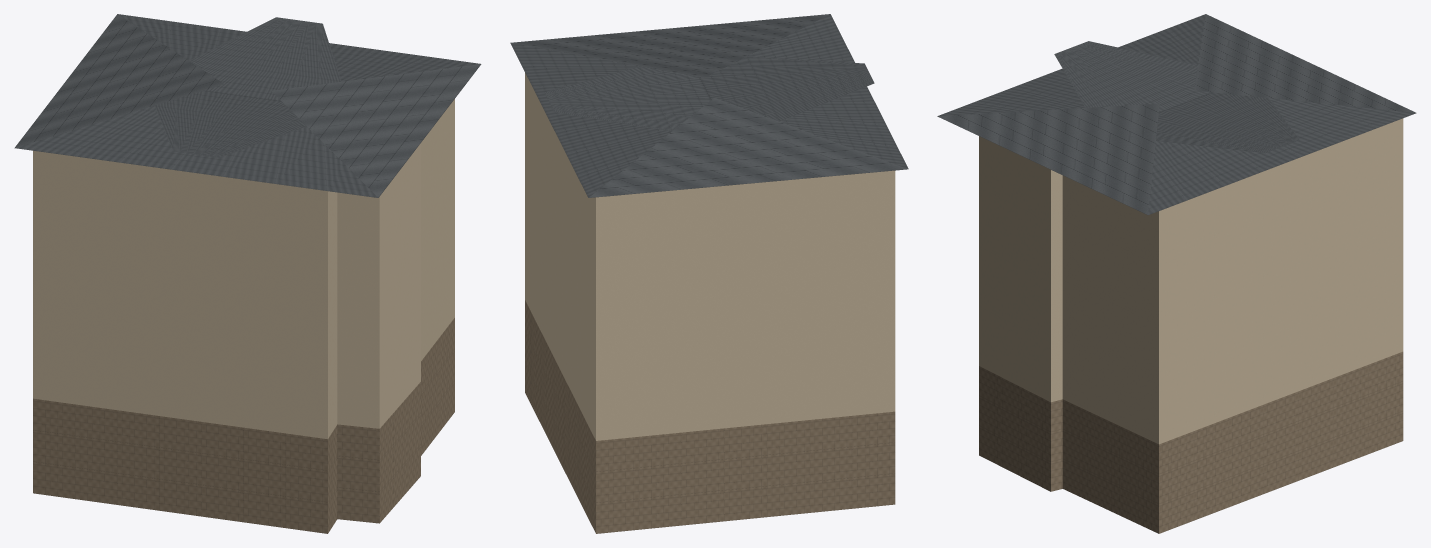
File: bld_c-21_13_541.gltf
3 views of the same model, side by side, from view 1: azimuth 30°, elevation 25°; view 2: azimuth 150°, elevation 25°; view 3: azimuth 270°, elevation 25° (orthographic). The views are drawn at different scales.
Visible parts, largest first — view 1: bld_c-21_13_541; view 2: bld_c-21_13_541; view 3: bld_c-21_13_541.
Boxes of the visible parts, x1=… form: bld_c-21_13_541: x1=14, y1=14, x2=481, y2=533; bld_c-21_13_541: x1=510, y1=14, x2=908, y2=533; bld_c-21_13_541: x1=937, y1=14, x2=1416, y2=533.
Bounding box in the file's own units: 24.6 × 19.7 × 24.78.
3 materials, 3 textured.
